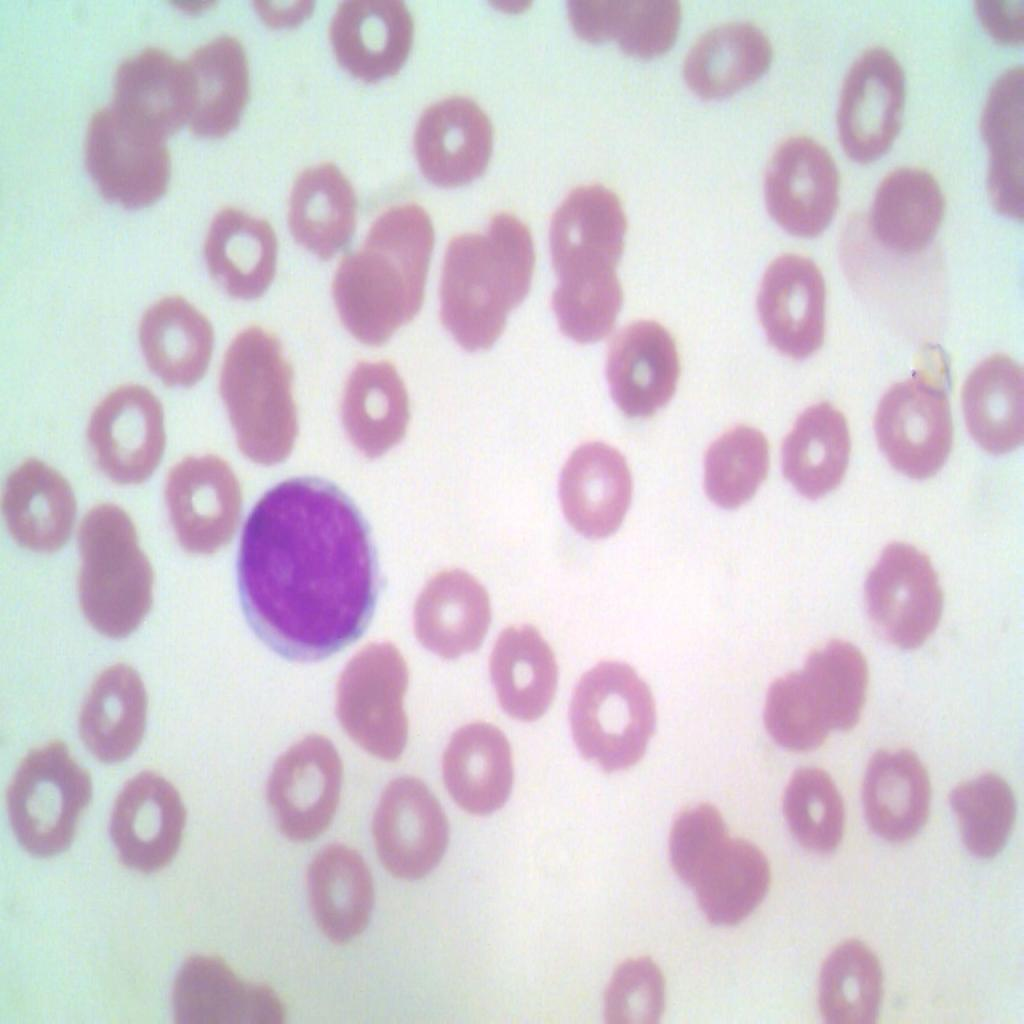Eritrosit: (220, 319, 310, 475), (558, 646, 656, 772), (250, 712, 342, 842), (318, 357, 428, 465), (78, 104, 182, 218), (166, 31, 264, 150), (99, 765, 194, 885), (863, 538, 951, 664), (869, 367, 961, 484), (6, 737, 92, 862), (82, 382, 178, 492), (402, 84, 498, 188), (335, 634, 415, 758), (553, 435, 635, 555), (402, 564, 495, 669), (151, 444, 239, 554), (796, 628, 878, 746), (751, 130, 843, 235), (320, 0, 430, 87), (834, 45, 911, 168), (859, 154, 951, 255), (760, 242, 838, 361), (101, 40, 196, 136), (76, 664, 166, 765), (433, 712, 515, 822), (336, 248, 421, 354), (198, 198, 288, 298), (542, 172, 631, 272), (603, 317, 689, 420), (444, 221, 513, 349), (478, 622, 566, 722), (3, 456, 82, 564), (288, 144, 362, 258), (678, 18, 778, 101), (782, 388, 856, 498), (131, 290, 214, 388), (546, 264, 636, 354), (853, 740, 941, 831), (696, 828, 774, 930), (810, 922, 886, 1023), (364, 210, 442, 307), (956, 342, 1023, 452), (941, 764, 1019, 858), (372, 778, 446, 874), (704, 417, 775, 515), (474, 204, 540, 307), (304, 832, 370, 935), (779, 767, 856, 851), (588, 955, 679, 1023), (671, 795, 731, 895), (766, 664, 826, 758)
Limfoblast: (233, 467, 384, 668)
